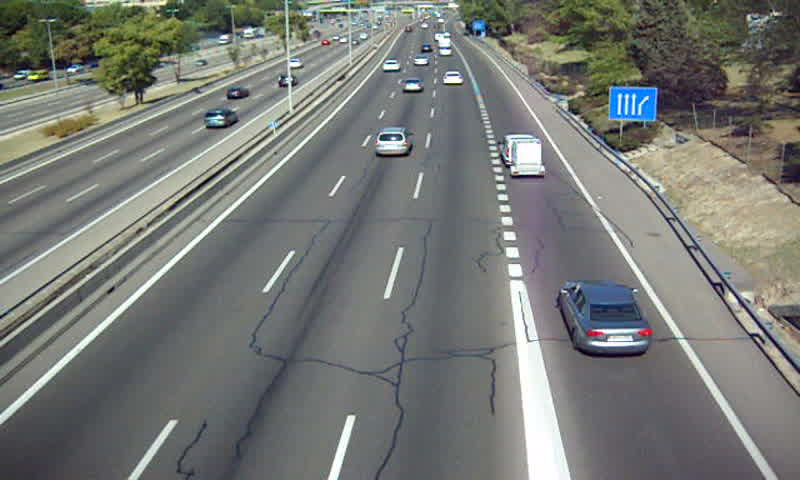car: (561, 281, 652, 354), (375, 129, 410, 156), (401, 78, 426, 93), (442, 71, 464, 86), (382, 59, 400, 73), (414, 53, 429, 68)
van: (501, 135, 539, 165)
